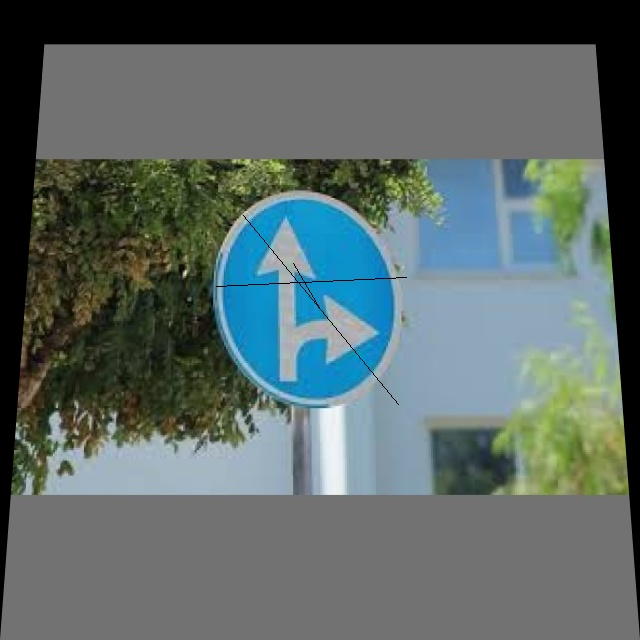Compulsory_Ahead_or_Turn_Right: (215, 190, 408, 408)
